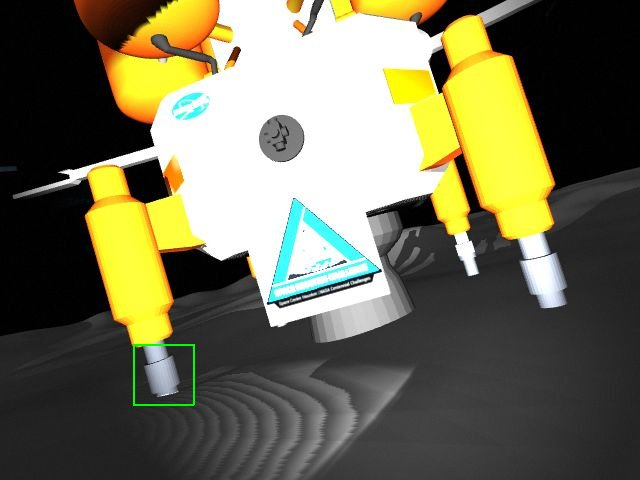basemarker: (266, 197, 381, 308)
